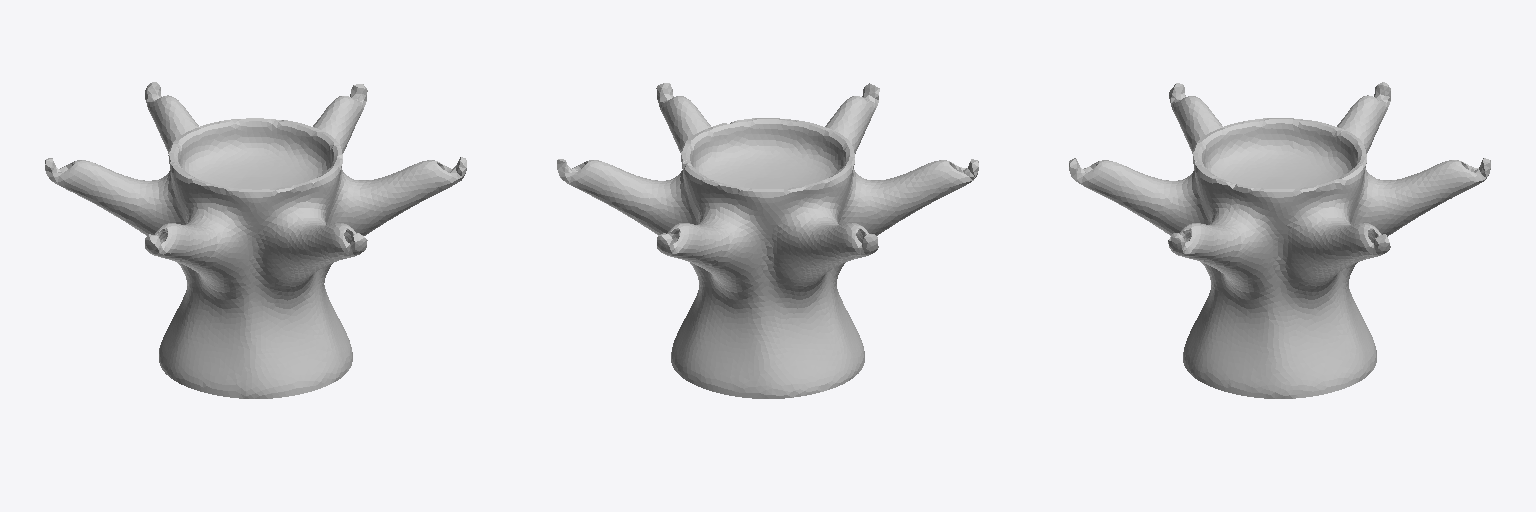
File: model_dispenser.obj
3 views of the same model, side by side, from view 1: azimuth 30°, elevation 25°; view 2: azimuth 150°, elevation 25°; view 3: azimuth 270°, elevation 25° (orthographic).
Bounding box in the file's own units: 147 × 89.02 × 167.